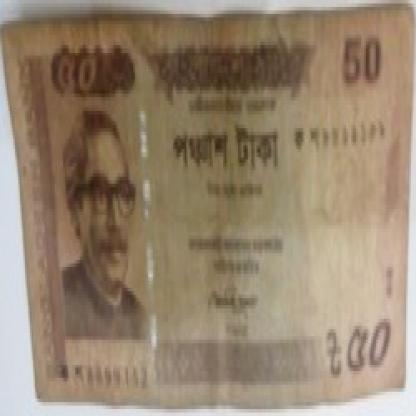Fifty taka: (55, 49, 100, 104), (348, 329, 388, 385)
